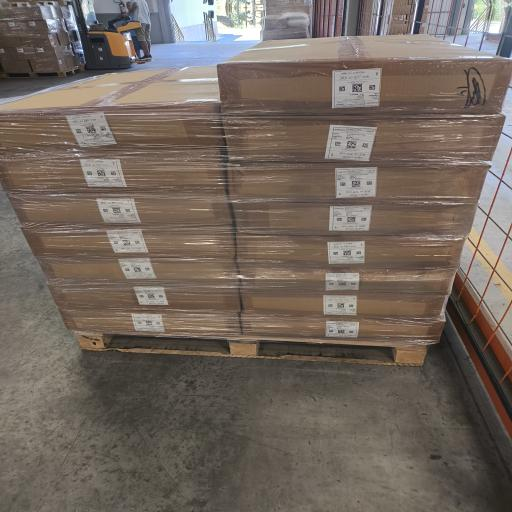pallet: (76, 333, 426, 366), (0, 66, 84, 78)
